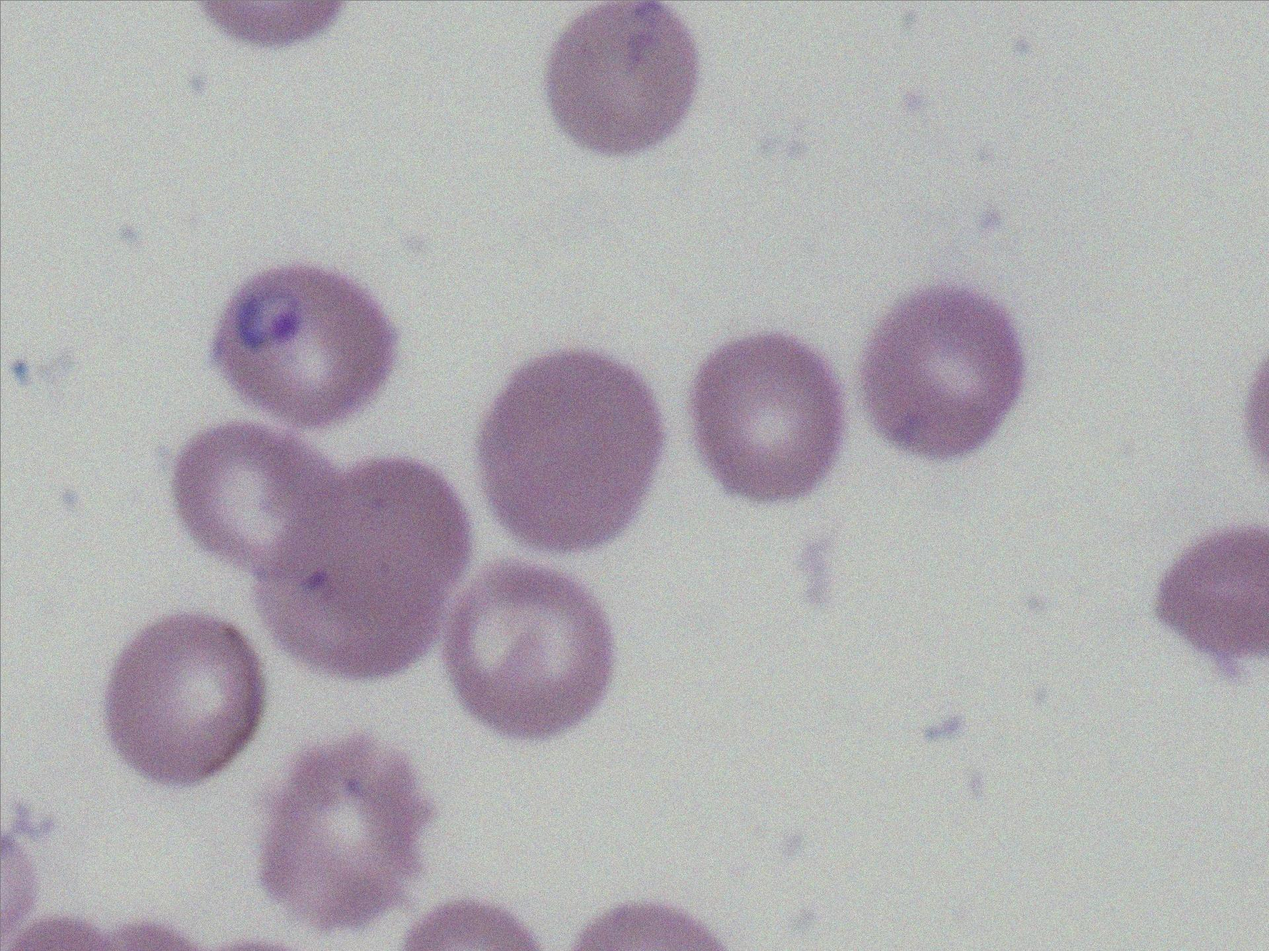Infected: (212, 265, 401, 429)
Uninfected: (264, 456, 469, 682), (478, 349, 664, 555), (258, 737, 432, 933), (441, 564, 615, 739), (858, 286, 1024, 460), (106, 617, 264, 789), (167, 432, 358, 573), (689, 334, 845, 500), (542, 2, 699, 156), (1155, 526, 1269, 660)
